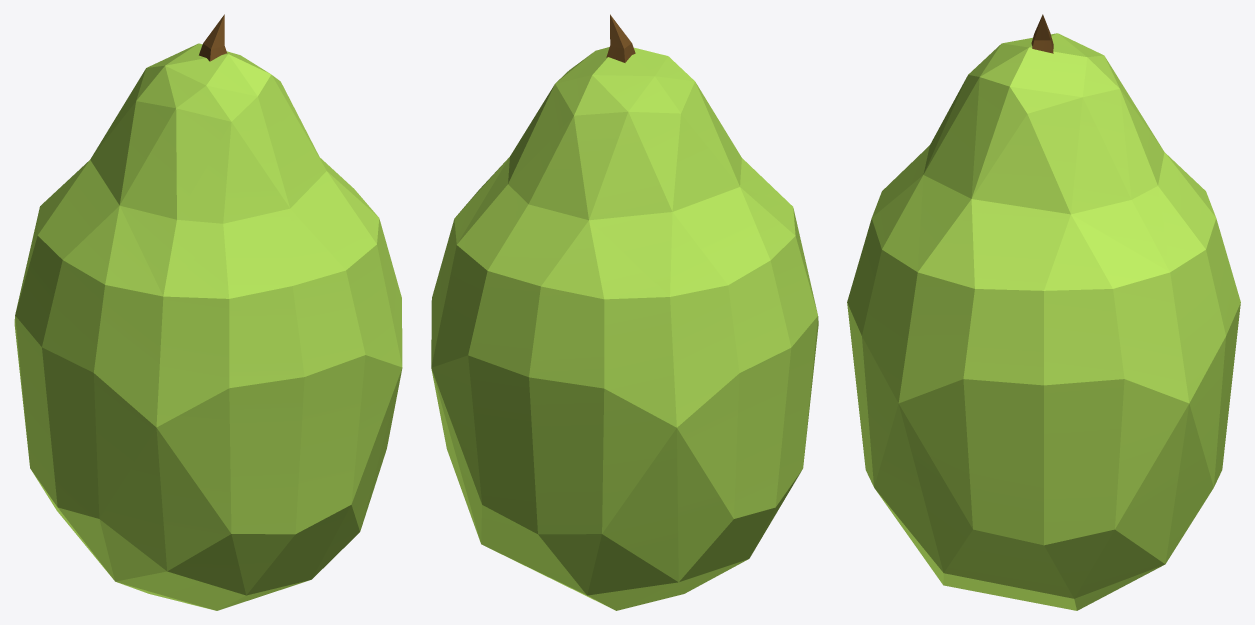
Rendered from Grusha.fbx.
3 renders of one model, left to right at view 1: azimuth 30°, elevation 25°; view 2: azimuth 150°, elevation 25°; view 3: azimuth 270°, elevation 25°, orthographic. The views are drawn at different scales.
Visible parts, largest first — view 1: Cube.035; view 2: Cube.035; view 3: Cube.035.
Part boxes in pixels (x1,y1,x2,y2): Cube.035: (14, 14, 402, 610); Cube.035: (431, 14, 818, 610); Cube.035: (847, 14, 1240, 610).
Bounding box in the file's own units: 15.79 × 25.98 × 15.79.
